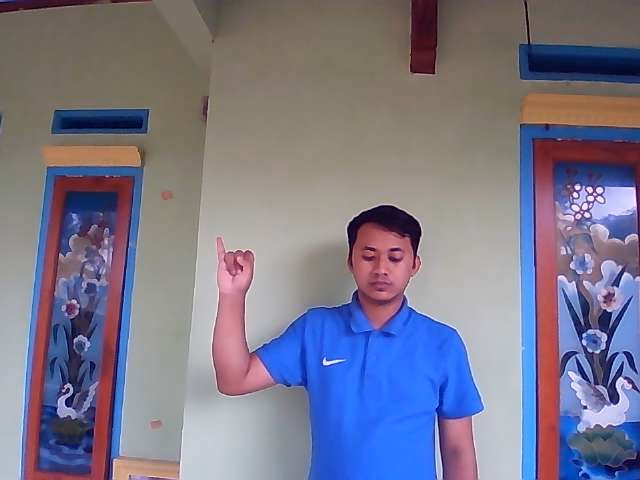I: (215, 234, 255, 295)
